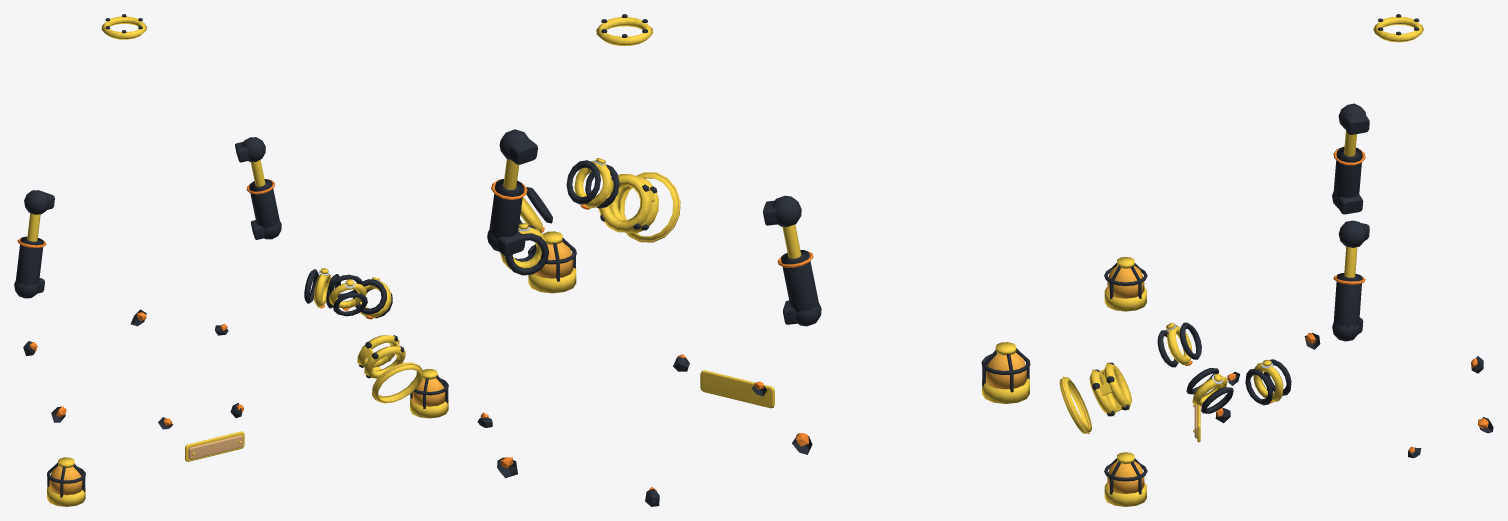
Rendered from LavaPump_T5_Upgrades.fbx.
3 views of the same model, side by side, from view 1: azimuth 30°, elevation 25°; view 2: azimuth 150°, elevation 25°; view 3: azimuth 270°, elevation 25° (orthographic). The views are drawn at different scales.
Parts seen in each view (by area): view 1: LavaPumpT5U1Clamps, LavaPumpT5U3Piston1, LavaPumpT5U3Piston2, LavaPumpT5U1Reinforce, LavaPumpT5U2Lamp1, LavaPumpT5U5NamePlate, LavaPumpT5U2Lamp2, LavaPumpT5U5Fountain, LavaPumpT5U2Lamp1Glow, LavaPumpT5U5GlowRocks, LavaPumpT5U2Lamp2Glow; view 2: LavaPumpT5U1Clamps, LavaPumpT5U3Piston1, LavaPumpT5U3Piston2, LavaPumpT5U1Reinforce, LavaPumpT5U2Lamp1, LavaPumpT5U5NamePlate, LavaPumpT5U2Lamp2, LavaPumpT5U5GlowRocks, LavaPumpT5U5Fountain, LavaPumpT5U2Lamp1Glow, LavaPumpT5U2Lamp2Glow; view 3: LavaPumpT5U1Clamps, LavaPumpT5U3Piston2, LavaPumpT5U3Piston1, LavaPumpT5U1Reinforce, LavaPumpT5U2Lamp2, LavaPumpT5U2Lamp1, LavaPumpT5U5Fountain, LavaPumpT5U2Lamp1Glow, LavaPumpT5U2Lamp2Glow, LavaPumpT5U5GlowRocks.
Part boxes in pixels (<box>): LavaPumpT5U1Clamps: <box>304,268,392,318</box>; LavaPumpT5U3Piston1: <box>14,190,54,298</box>; LavaPumpT5U3Piston2: <box>235,137,281,239</box>; LavaPumpT5U1Reinforce: <box>357,335,422,403</box>; LavaPumpT5U2Lamp1: <box>47,457,85,506</box>; LavaPumpT5U5NamePlate: <box>185,431,244,461</box>; LavaPumpT5U2Lamp2: <box>410,369,448,418</box>; LavaPumpT5U5Fountain: <box>101,14,146,39</box>; LavaPumpT5U2Lamp1Glow: <box>49,465,82,495</box>; LavaPumpT5U5GlowRocks: <box>23,309,241,429</box>; LavaPumpT5U2Lamp2Glow: <box>412,378,445,406</box>; LavaPumpT5U1Clamps: <box>500,158,619,275</box>; LavaPumpT5U3Piston1: <box>763,195,821,326</box>; LavaPumpT5U3Piston2: <box>487,129,537,255</box>; LavaPumpT5U1Reinforce: <box>598,173,680,240</box>; LavaPumpT5U2Lamp1: <box>981,342,1030,403</box>; LavaPumpT5U5NamePlate: <box>700,370,774,408</box>; LavaPumpT5U2Lamp2: <box>528,231,576,293</box>; LavaPumpT5U5GlowRocks: <box>477,356,812,506</box>; LavaPumpT5U5Fountain: <box>596,14,652,45</box>; LavaPumpT5U2Lamp1Glow: <box>986,352,1026,389</box>; LavaPumpT5U2Lamp2Glow: <box>534,241,573,278</box>; LavaPumpT5U1Clamps: <box>1157,322,1291,413</box>; LavaPumpT5U3Piston2: <box>1332,220,1369,341</box>; LavaPumpT5U3Piston1: <box>1332,103,1369,214</box>; LavaPumpT5U1Reinforce: <box>1059,362,1131,433</box>; LavaPumpT5U2Lamp2: <box>1104,452,1147,506</box>; LavaPumpT5U2Lamp1: <box>1104,257,1147,311</box>; LavaPumpT5U5Fountain: <box>1373,14,1423,42</box>; LavaPumpT5U2Lamp1Glow: <box>1107,266,1144,298</box>; LavaPumpT5U2Lamp2Glow: <box>1107,461,1144,493</box>; LavaPumpT5U5GlowRocks: <box>1215,333,1493,458</box>.
Size of the model in its own units: 477 by 421 by 409.
